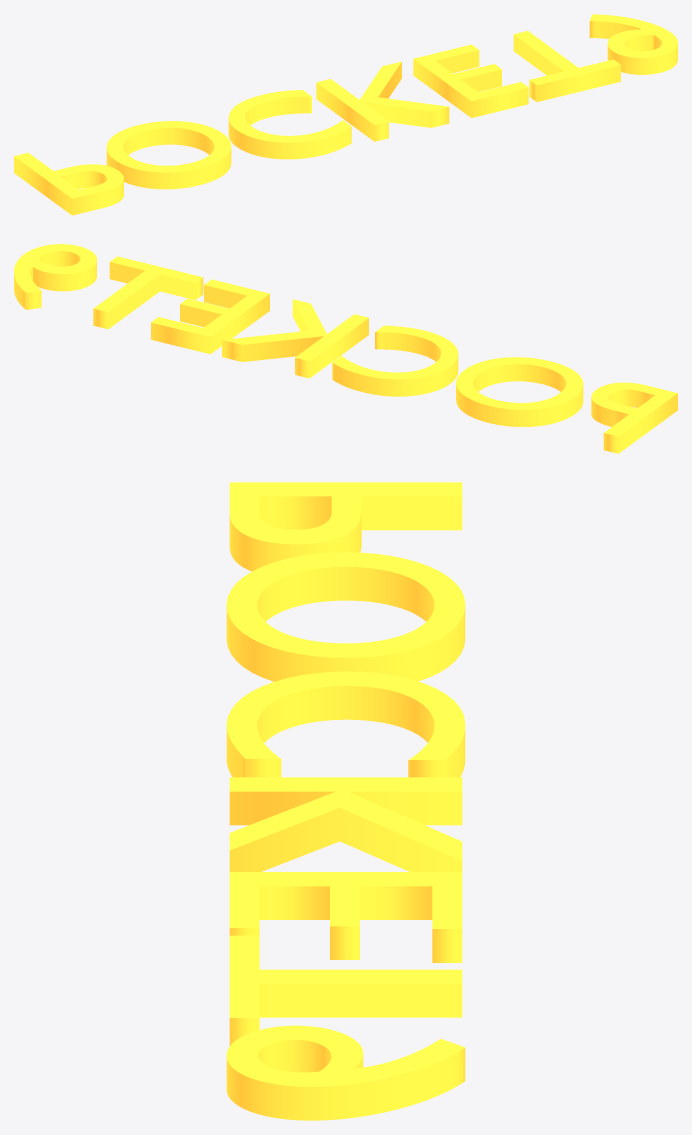
Rendered from POCKET9.glb.
3 renders of one model, top to bottom at view 1: azimuth 30°, elevation 25°; view 2: azimuth 150°, elevation 25°; view 3: azimuth 270°, elevation 25°, orthographic. The views are drawn at different scales.
Parts seen in each view (by area): view 1: LABEL_POCKET9; view 2: LABEL_POCKET9; view 3: LABEL_POCKET9.
Boxes of the visible parts, bbox=[...] form: LABEL_POCKET9: bbox=[14, 14, 677, 215]; LABEL_POCKET9: bbox=[14, 244, 677, 453]; LABEL_POCKET9: bbox=[226, 482, 465, 1120].
Size of the model in its own units: 0.2306 by 0.006 by 0.0385.
